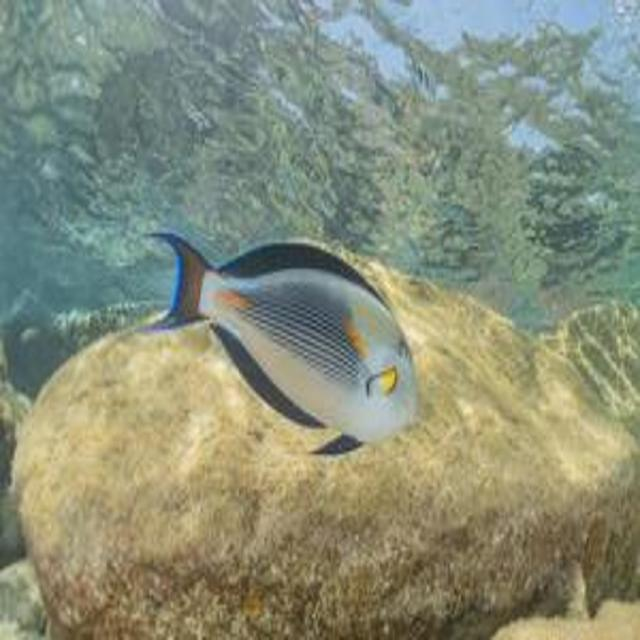fish: (149, 224, 420, 461)
